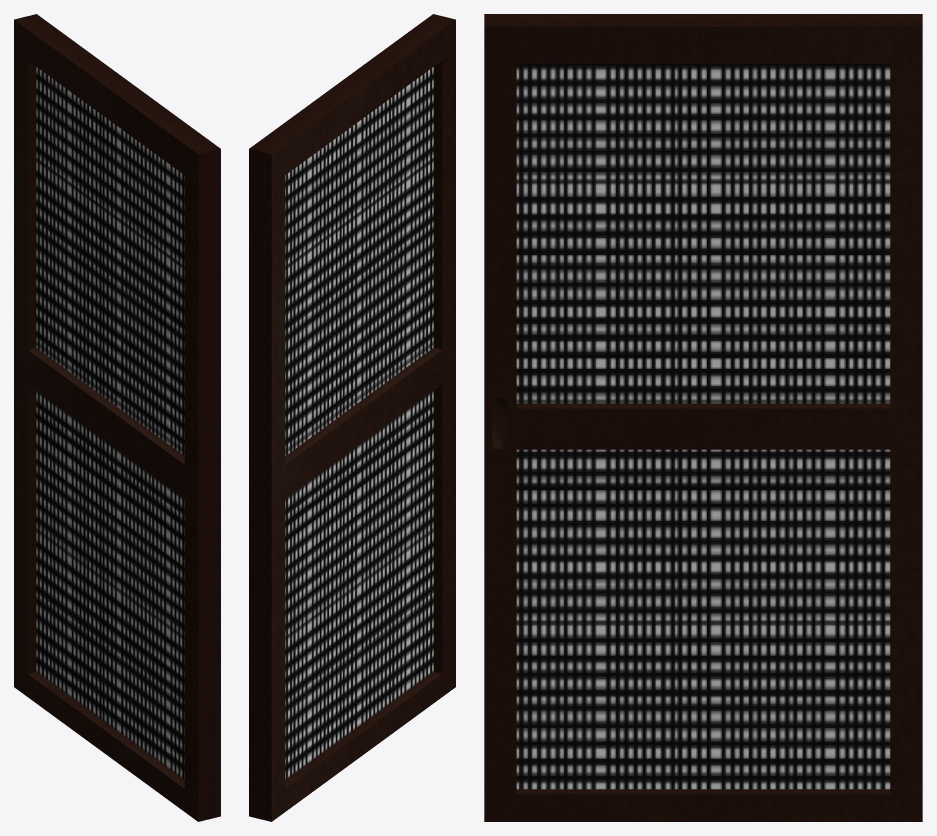
File: amido.fbx
3 views of the same model, side by side, from view 1: azimuth 30°, elevation 25°; view 2: azimuth 150°, elevation 25°; view 3: azimuth 270°, elevation 25° (orthographic). The views are drawn at different scales.
Parts seen in each view (by area): view 1: Cube.003; view 2: Cube.003; view 3: Cube.003.
Boxes of the visible parts, box(x1,y1,x2,y2) form: Cube.003: box(14, 14, 220, 821); Cube.003: box(249, 14, 455, 821); Cube.003: box(484, 14, 922, 821).
Size of the model in its own units: 7.09 by 200 by 100.
